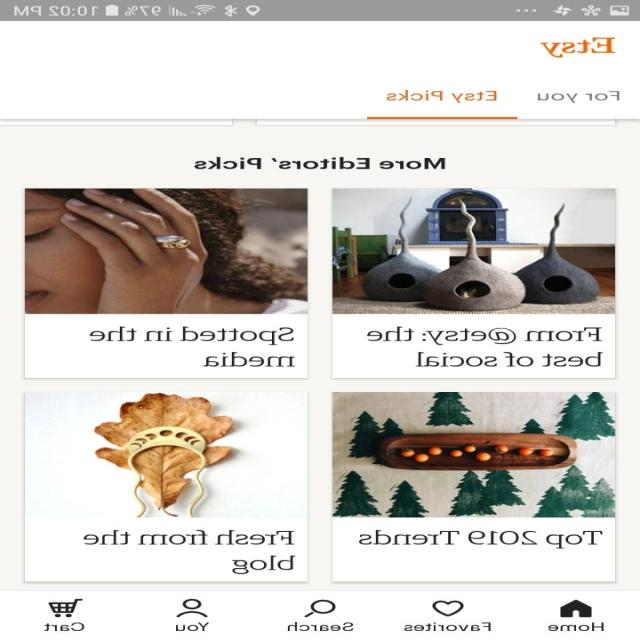Icon: (49, 598, 85, 617), (305, 598, 338, 617), (176, 598, 209, 617), (560, 599, 593, 617), (432, 599, 465, 616)
Image: (332, 188, 616, 314), (24, 188, 308, 314), (332, 391, 616, 517), (25, 391, 308, 517)
Text: (366, 326, 603, 367), (83, 529, 297, 574), (90, 326, 296, 366), (358, 530, 604, 548), (194, 156, 446, 170), (540, 37, 616, 58), (386, 90, 498, 104), (536, 90, 620, 104), (404, 621, 492, 631), (288, 621, 355, 631), (548, 621, 604, 631), (44, 621, 86, 631), (176, 621, 211, 631)
